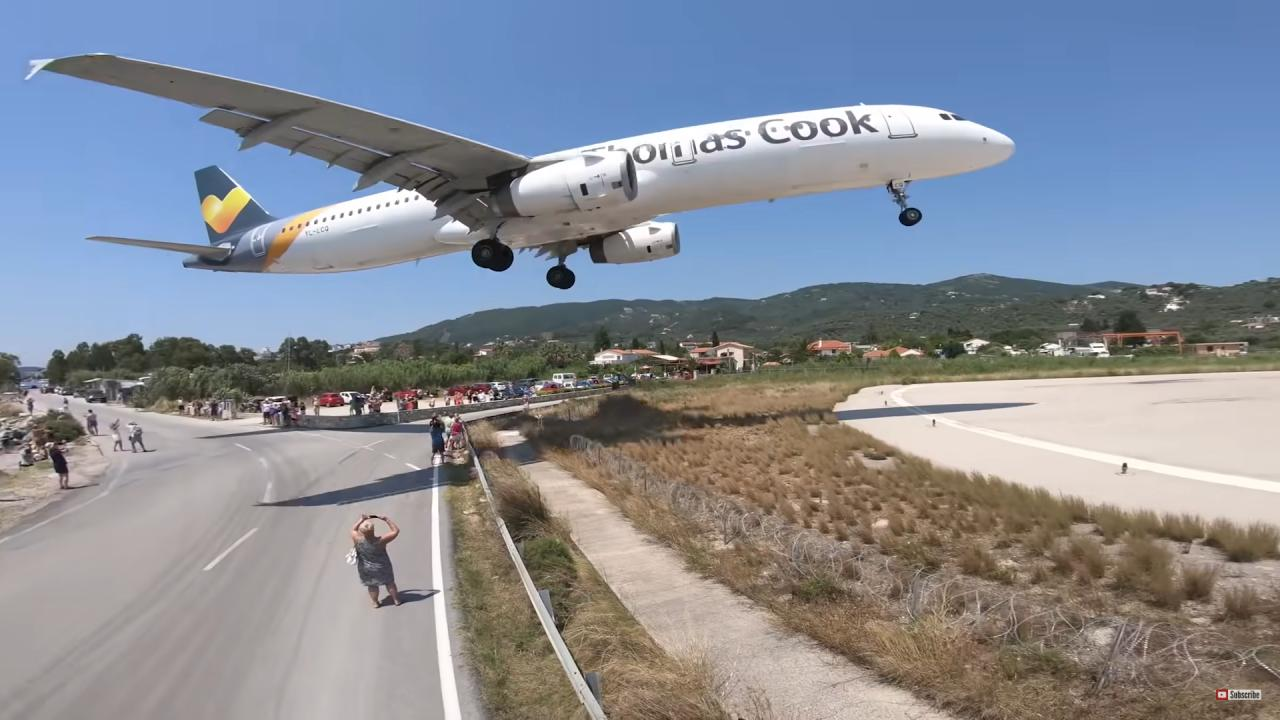Airplane: (15, 36, 1031, 302)
